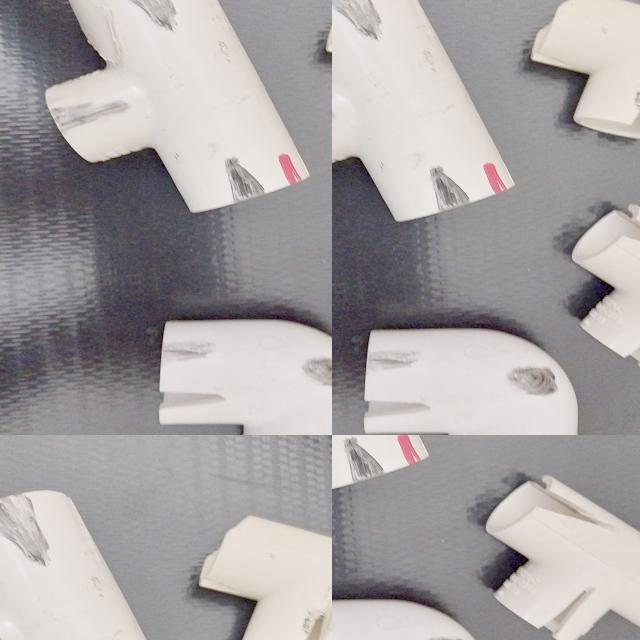Defective: (527, 473, 610, 535), (546, 588, 594, 638), (346, 441, 380, 485), (399, 436, 421, 464)
T Joint: (486, 469, 640, 640)
